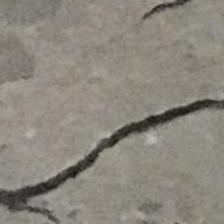Crack: (0, 94, 224, 216)
